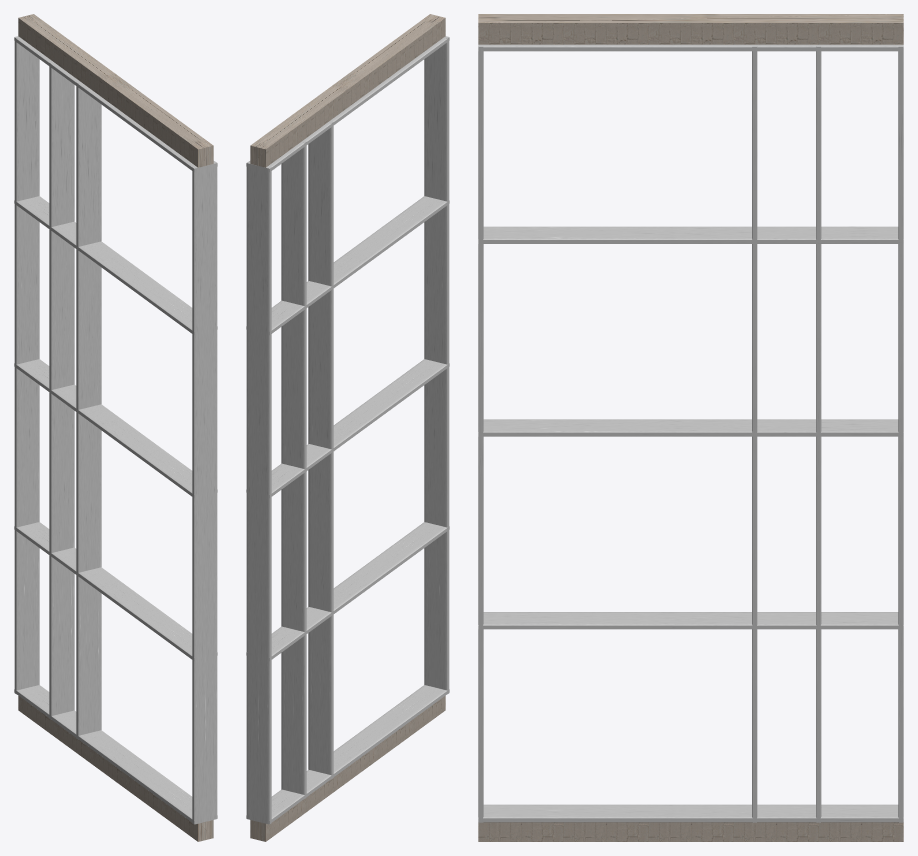
The model's file is window.dae.
3 renders of one model, left to right at view 1: azimuth 30°, elevation 25°; view 2: azimuth 150°, elevation 25°; view 3: azimuth 270°, elevation 25°, orthographic. The views are drawn at different scales.
Parts seen in each view (by area): view 1: Cube.030; view 2: Cube.030; view 3: Cube.030.
Part boxes in pixels (box(x1,y1,x2,y2)): Cube.030: box(14, 14, 217, 841); Cube.030: box(246, 14, 449, 841); Cube.030: box(478, 14, 903, 841).
Bounding box in the file's own units: 0.3 × 4 × 8.5.
2 materials, 2 textured.
